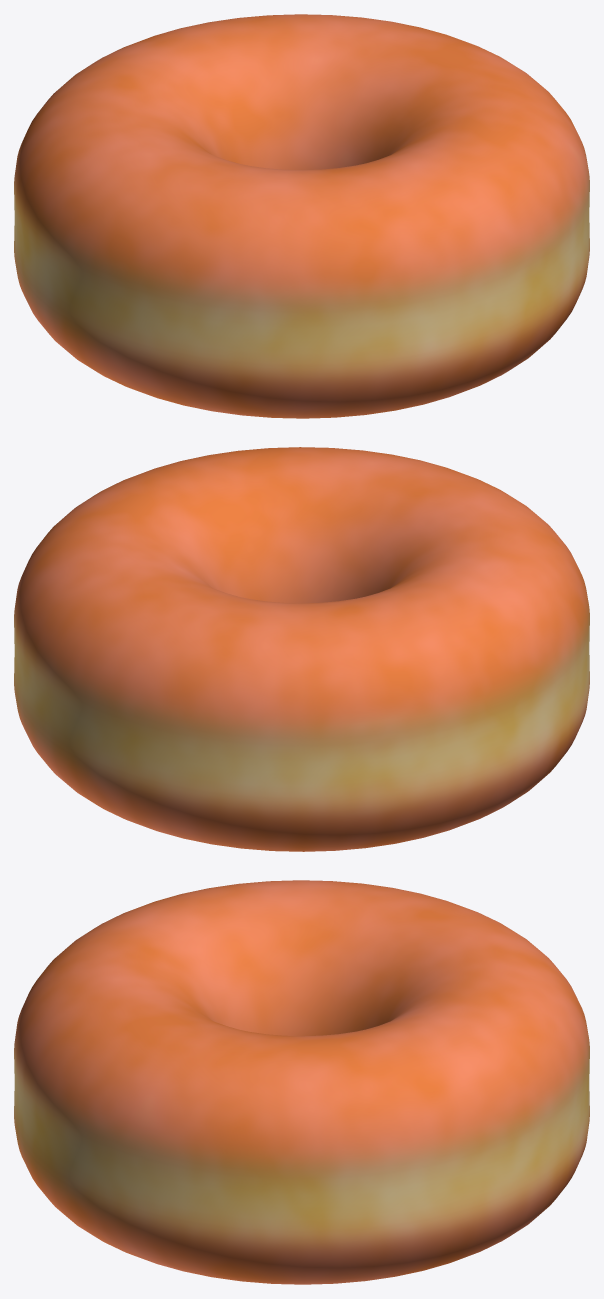
File: donut.glb
The picture shows the model from 3 angles, top to bottom: view 1: azimuth 30°, elevation 25°; view 2: azimuth 150°, elevation 25°; view 3: azimuth 270°, elevation 25°; orthographic projection.
Visible parts, largest first — view 1: Torus.002_0; view 2: Torus.002_0; view 3: Torus.002_0.
Boxes of the visible parts, x1,y1,x2,y2 form: Torus.002_0: (14, 14, 589, 418); Torus.002_0: (14, 447, 589, 851); Torus.002_0: (14, 880, 589, 1284).
Bounding box in the file's own units: 0.3834 × 0.1667 × 0.3834.
1 material, 1 textured.
